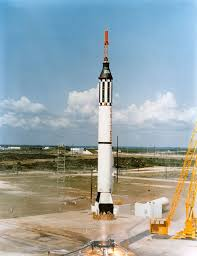ten_lua: (96, 23, 121, 225)
